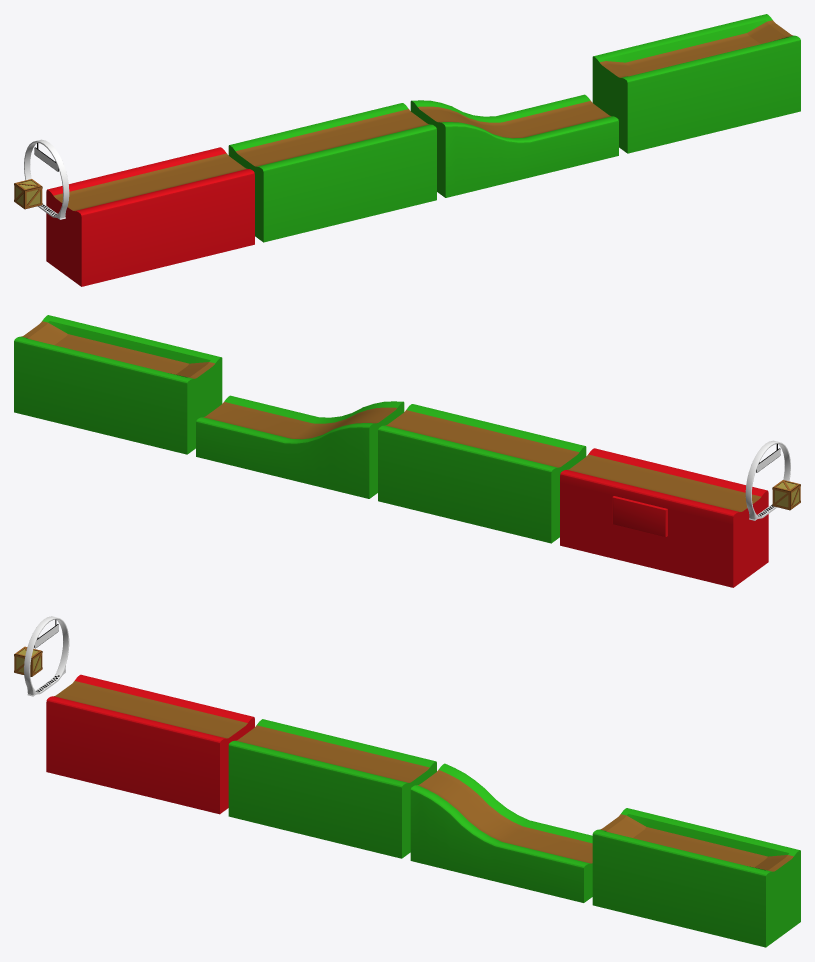
Rendered from Race_royale.fbx.
The picture shows the model from 3 angles, top to bottom: view 1: azimuth 30°, elevation 25°; view 2: azimuth 150°, elevation 25°; view 3: azimuth 330°, elevation 25°; orthographic projection.
Visible parts, largest first — view 1: Cube.001, Cube.002, Cube, Cube.003, Cube.004, Cube.005; view 2: Cube.001, Cube.002, Cube, Cube.003, Cube.004, Cube.005; view 3: Cube.002, Cube, Cube.001, Cube.003, Cube.004.
Boxes of the visible parts, box(x1,y1,x2,y2) form: Cube.001: box(46, 147, 254, 286); Cube.002: box(592, 14, 800, 153); Cube: box(228, 103, 436, 242); Cube.003: box(410, 94, 618, 197); Cube.004: box(24, 139, 69, 219); Cube.005: box(14, 179, 42, 209); Cube.001: box(560, 448, 768, 587); Cube.002: box(14, 315, 222, 454); Cube: box(378, 404, 586, 543); Cube.003: box(196, 395, 404, 498); Cube.004: box(745, 440, 790, 520); Cube.005: box(772, 480, 800, 510); Cube.002: box(592, 808, 800, 947); Cube: box(228, 719, 436, 858); Cube.001: box(46, 674, 254, 814); Cube.003: box(410, 763, 592, 902); Cube.004: box(24, 616, 69, 696).
Size of the model in its own units: 8816 by 1492 by 801.
